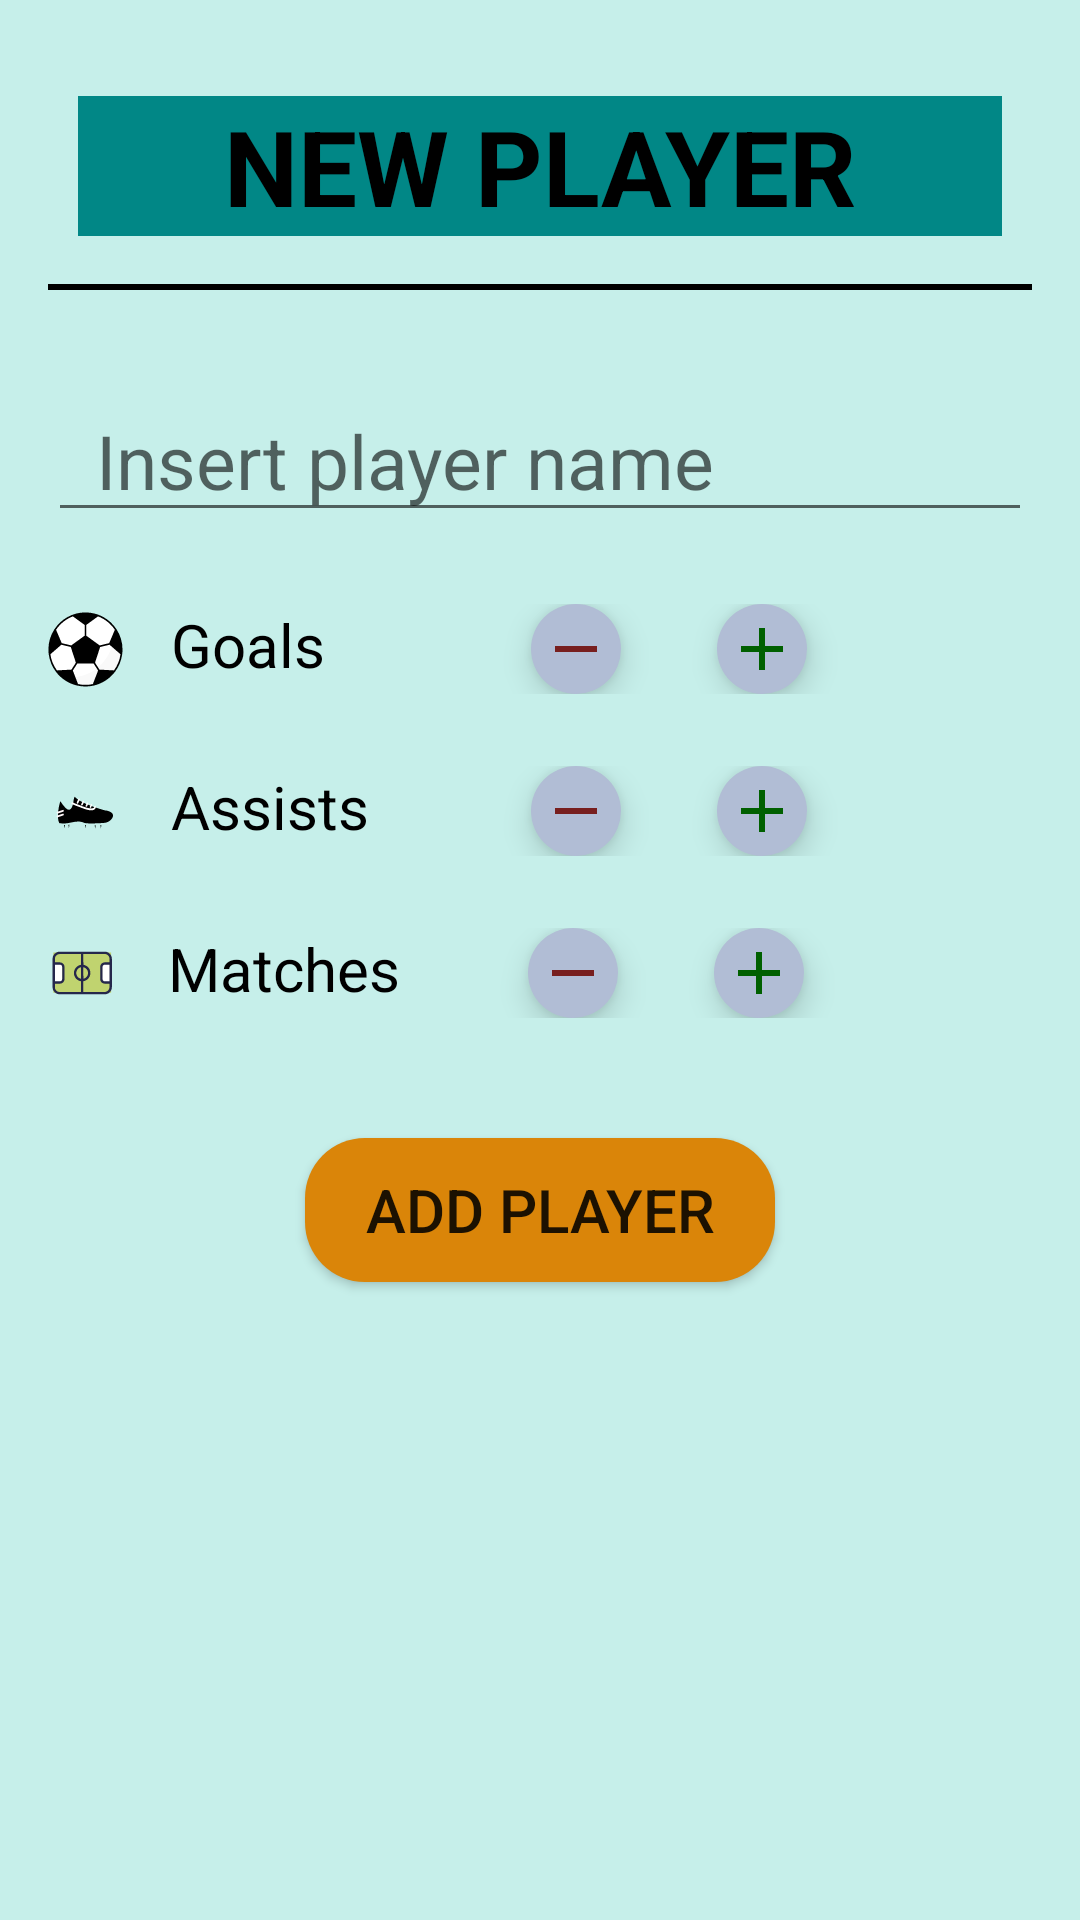

Named icons in this screenshot (1080*1920) and their centers, point (x, y):
Assist icon image: point (85, 812)
Football ball image: point (85, 649)
Games icon image: point (82, 973)
